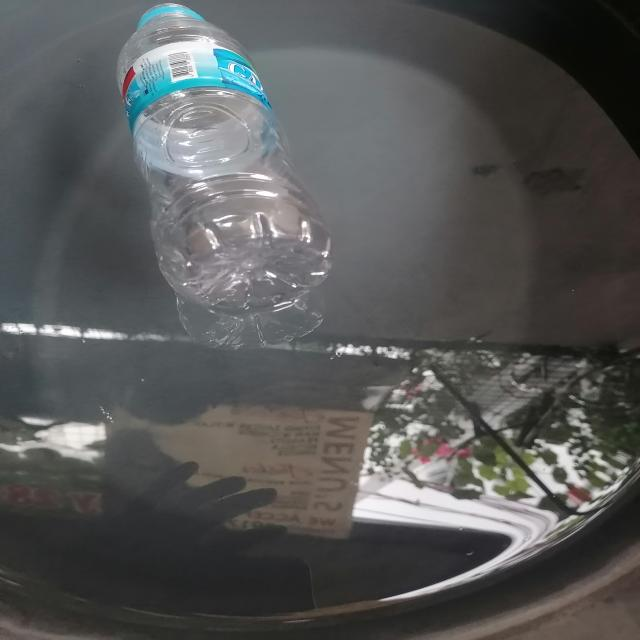Plastic Bottle: (117, 3, 331, 350)
